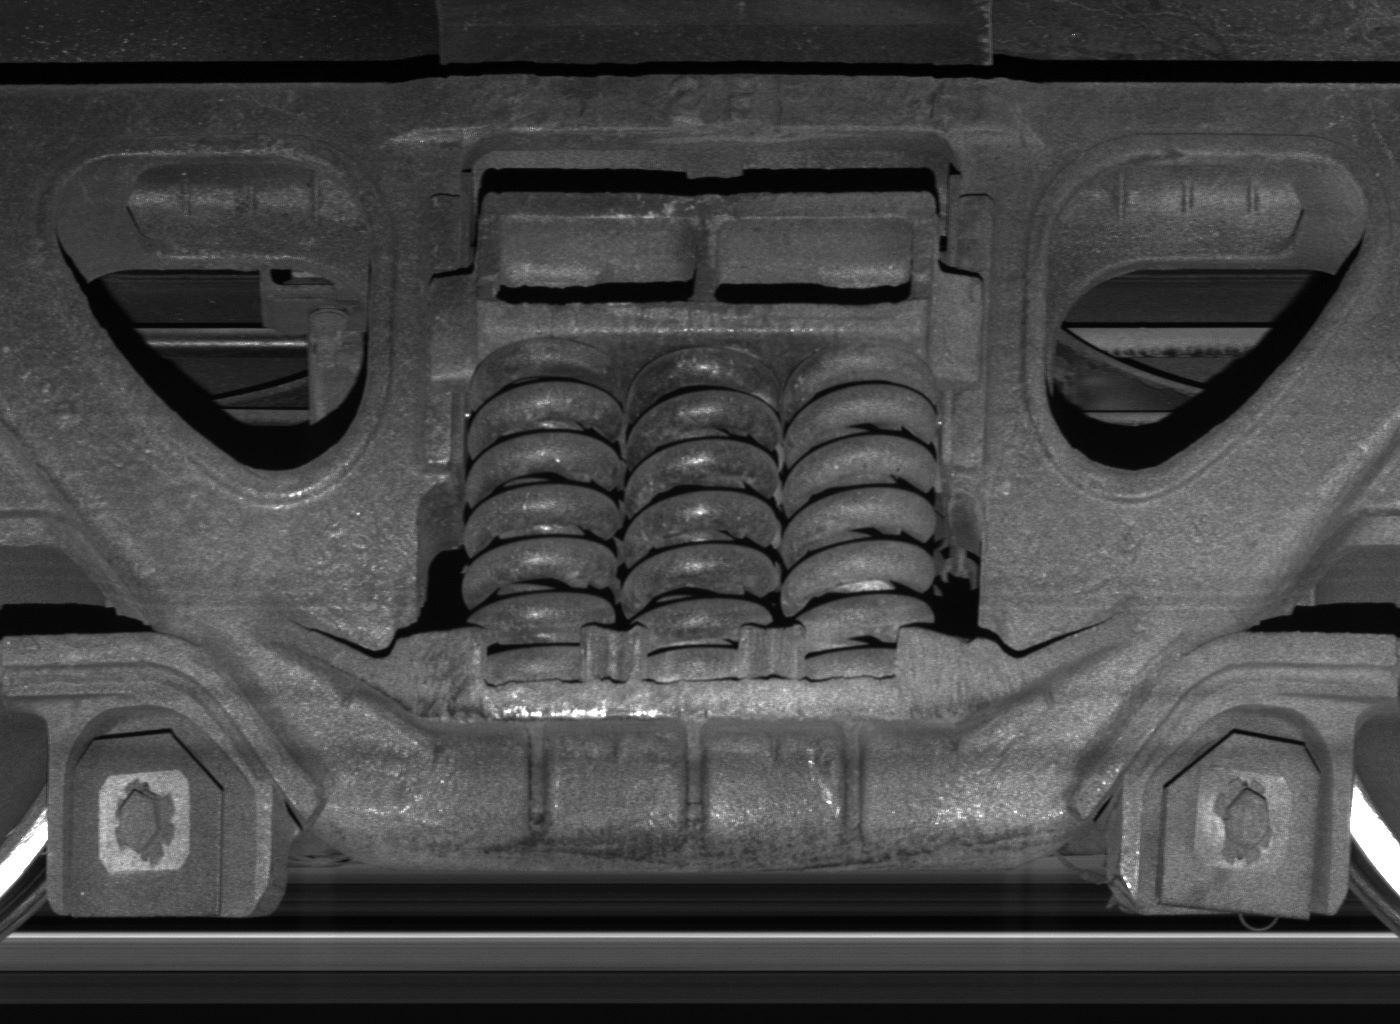locking plate: (1123, 702, 1351, 920)
normal: (46, 704, 272, 916)
